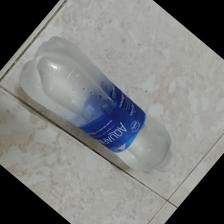Aquafina: (18, 36, 180, 179)
